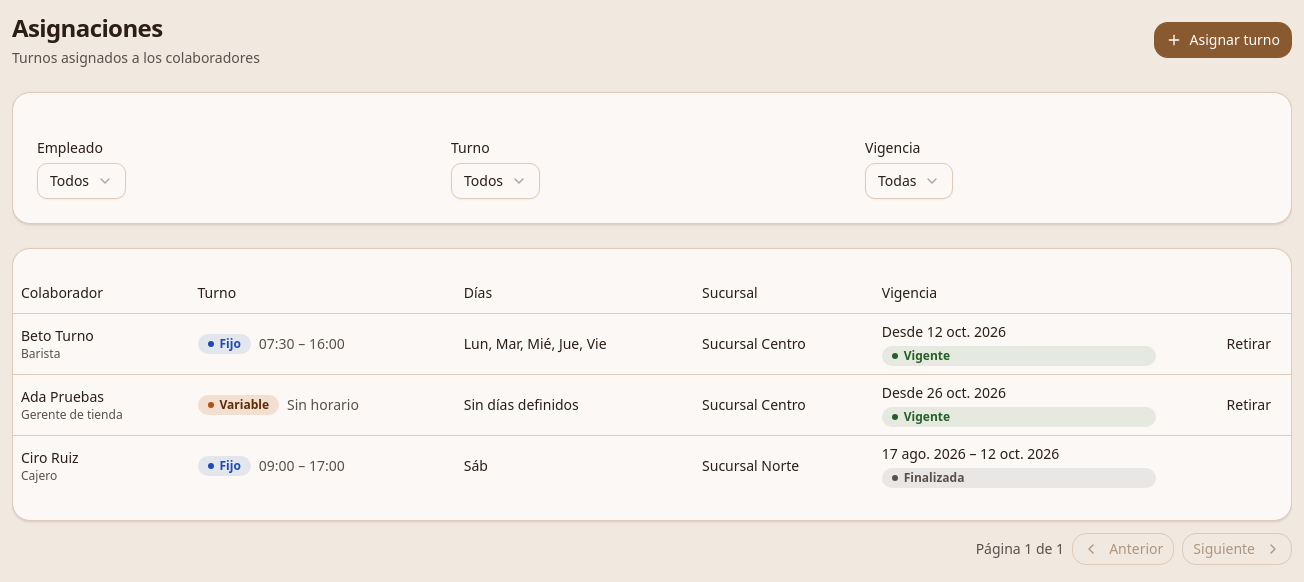
Test: Listado de asignaciones › filtra por vigencia
Expected: the text "Ciro Ruiz" is shown, [21,448,79,466]
Click the dropdown named "Vigencia". click: click(909, 181)
box: [865,163,954,199]
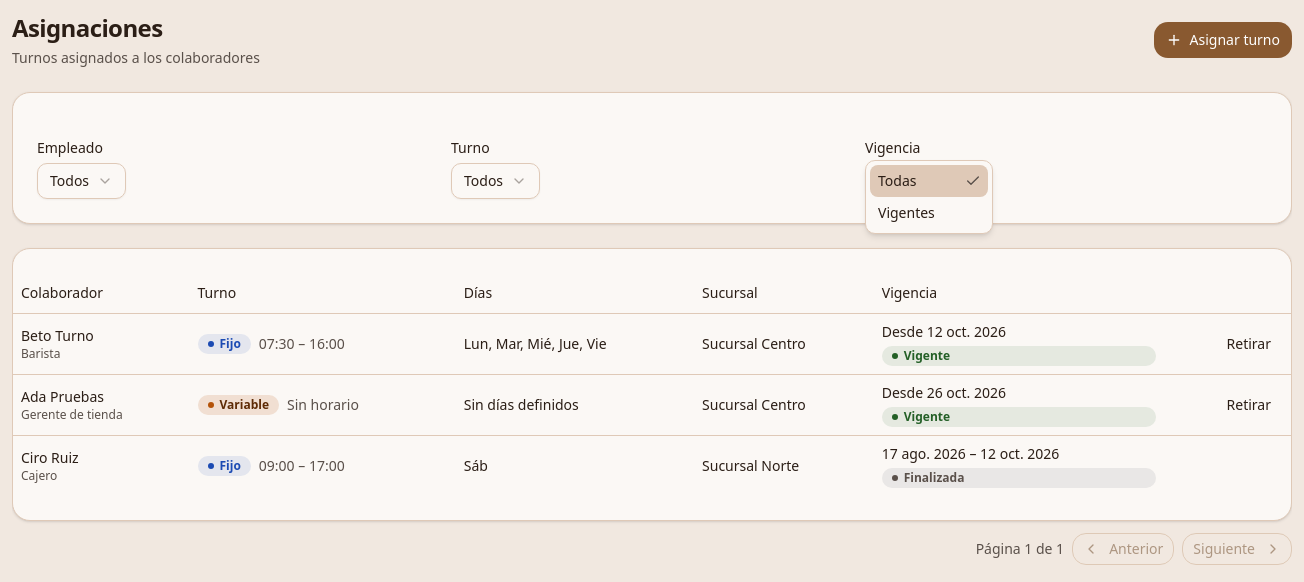
Click the option "Vigentes". click: click(906, 212)
box: [878,203,935,222]
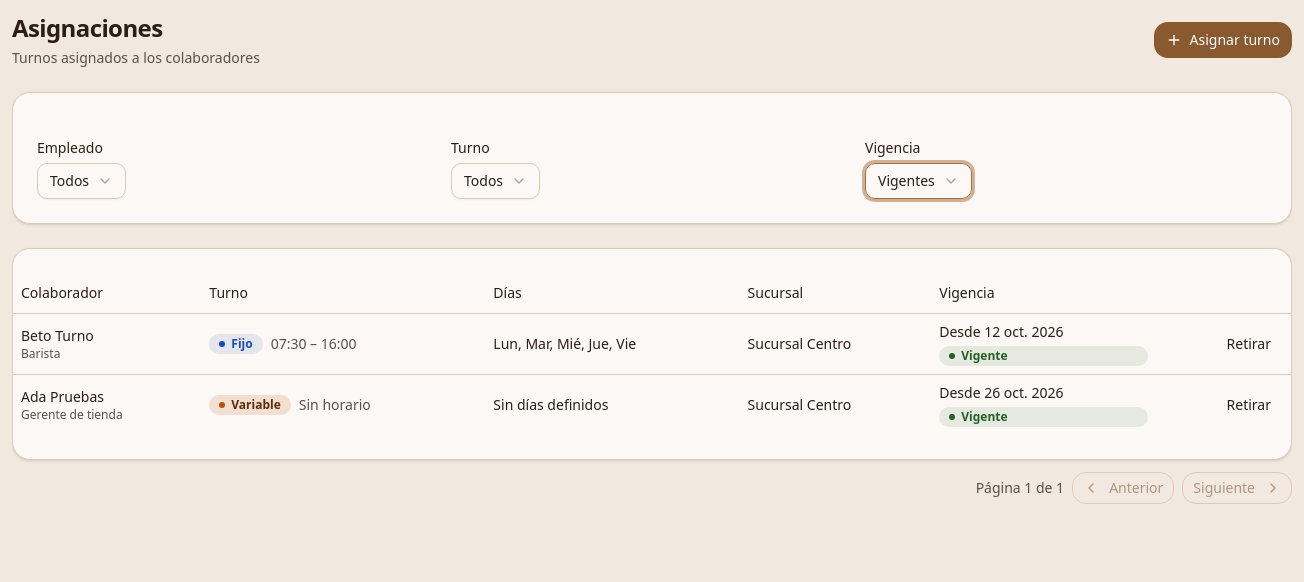
Expected: the text "Beto Turno" is shown, [21,326,94,344]
Expected: the text "Ciro Ruiz" is gone
